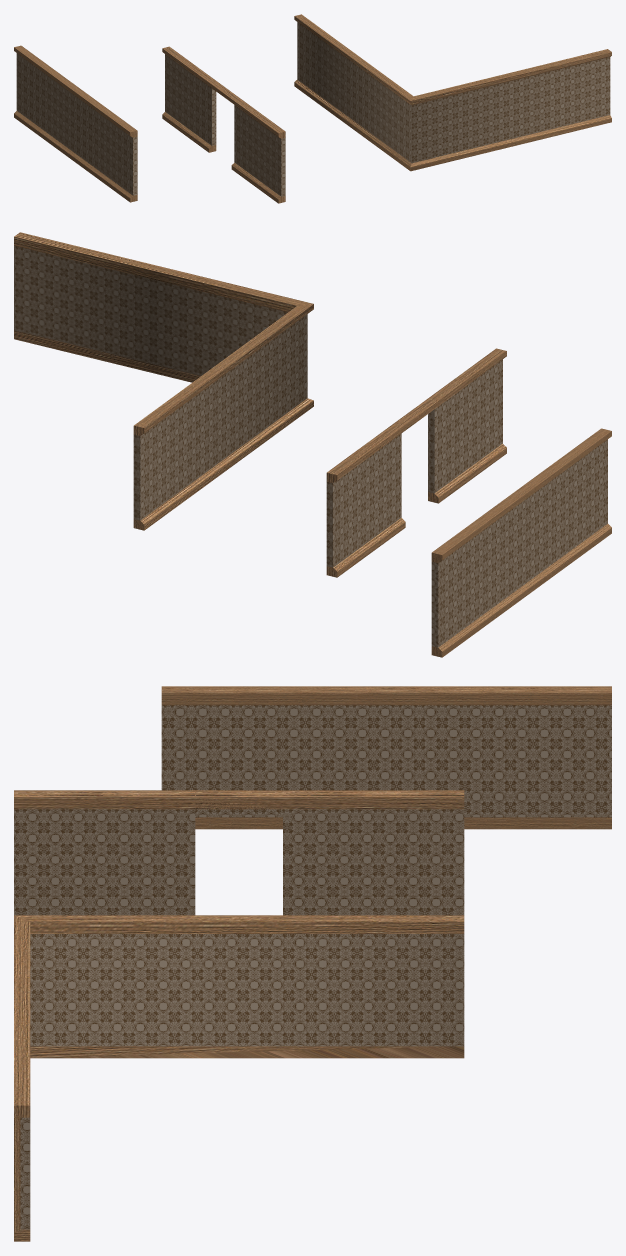
Rendered from wallSet6.FBX.
3 renders of one model, top to bottom at view 1: azimuth 30°, elevation 25°; view 2: azimuth 150°, elevation 25°; view 3: azimuth 270°, elevation 25°, orthographic. The views are drawn at different scales.
Parts seen in each view (by area): view 1: Box002, Box001, Box003; view 2: Box002, Box001, Box003; view 3: Box002, Box001, Box003.
Boxes of the visible parts, x1,y1,x2,y2 form: Box002: [294, 14, 611, 171]; Box001: [14, 45, 137, 202]; Box003: [162, 46, 285, 203]; Box002: [14, 232, 313, 530]; Box001: [431, 428, 611, 657]; Box003: [326, 348, 506, 577]; Box002: [14, 915, 464, 1241]; Box001: [161, 686, 611, 829]; Box003: [14, 790, 464, 915].
Bounding box in the file's own units: 793 × 120 × 478.
1 material, 1 textured.
